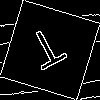T: (25, 25, 73, 79)
